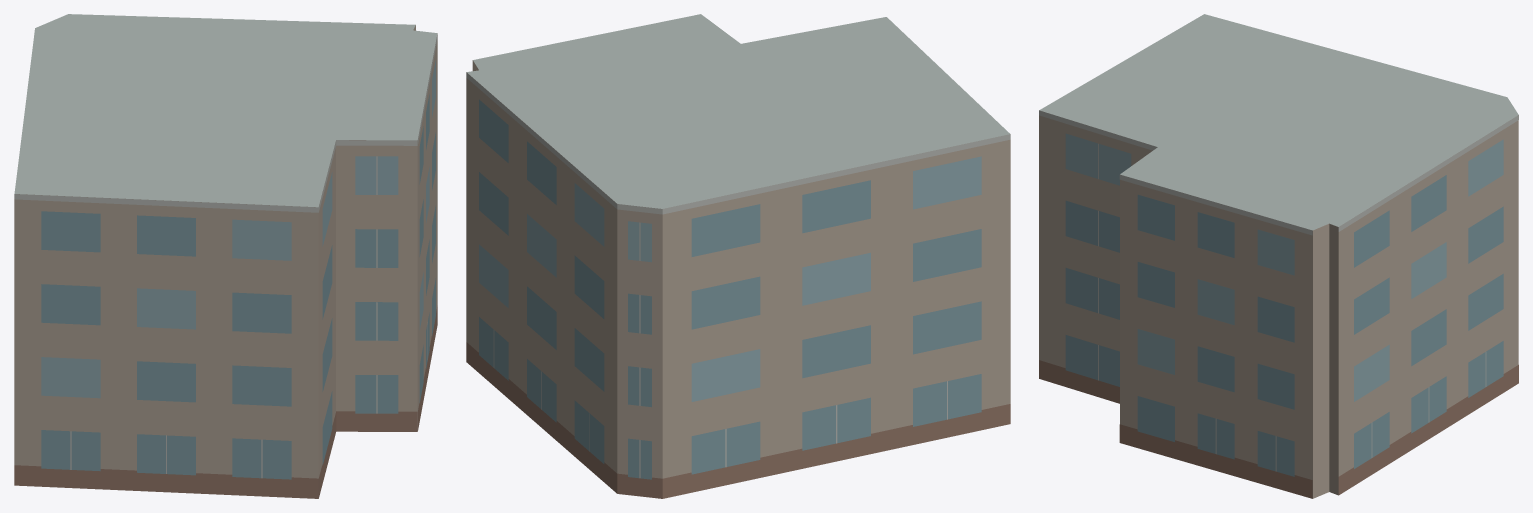
File: survey-upis-32997423.glb
3 views of the same model, side by side, from view 1: azimuth 30°, elevation 25°; view 2: azimuth 150°, elevation 25°; view 3: azimuth 270°, elevation 25° (orthographic). The views are drawn at different scales.
Parts seen in each view (by area): view 1: survey-upis-32997423.tmp; view 2: survey-upis-32997423.tmp; view 3: survey-upis-32997423.tmp.
Boxes of the visible parts, <box> form: survey-upis-32997423.tmp: <box>14,14,437,498</box>; survey-upis-32997423.tmp: <box>466,14,1010,498</box>; survey-upis-32997423.tmp: <box>1039,14,1518,498</box>.
Size of the model in its own units: 22.15 by 12.8 by 20.74.
